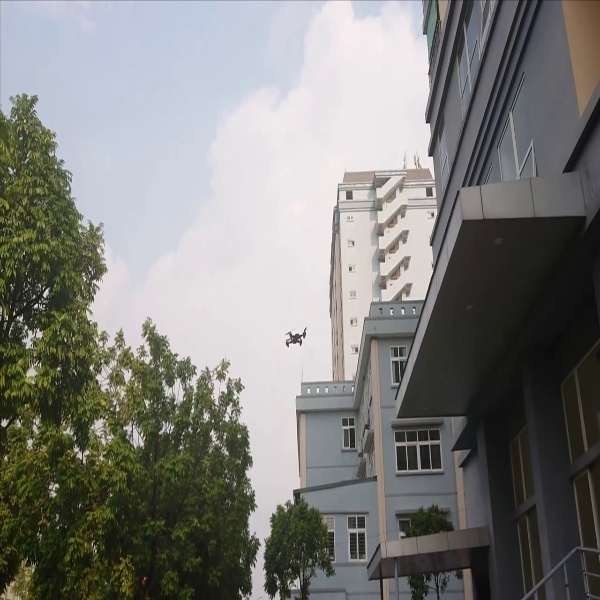drone: (278, 322, 310, 349)
